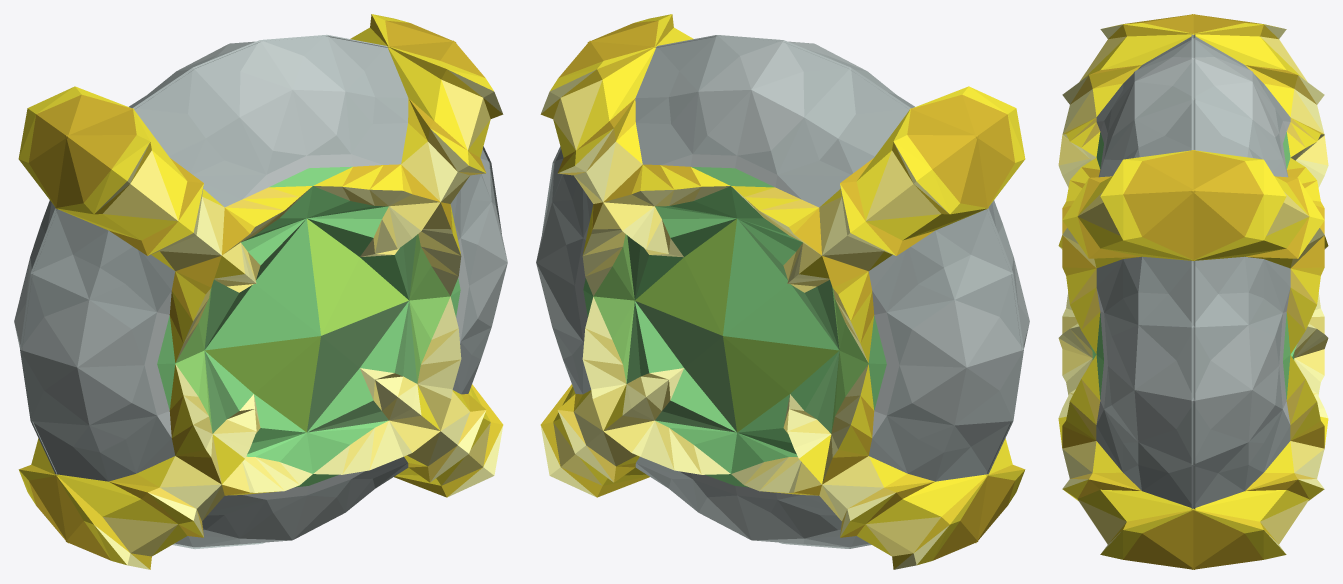
Rendered from bond.glb.
3 views of the same model, side by side, from view 1: azimuth 30°, elevation 25°; view 2: azimuth 150°, elevation 25°; view 3: azimuth 270°, elevation 25° (orthographic). The views are drawn at different scales.
Visible parts, largest first — view 1: [Imported] Bond; view 2: [Imported] Bond; view 3: [Imported] Bond.
Boxes of the visible parts, bbox=[...] form: [Imported] Bond: bbox=[14, 14, 507, 569]; [Imported] Bond: bbox=[536, 14, 1029, 569]; [Imported] Bond: bbox=[1058, 14, 1328, 569].
Size of the model in its own units: 0.5575 by 0.5575 by 0.2911.
